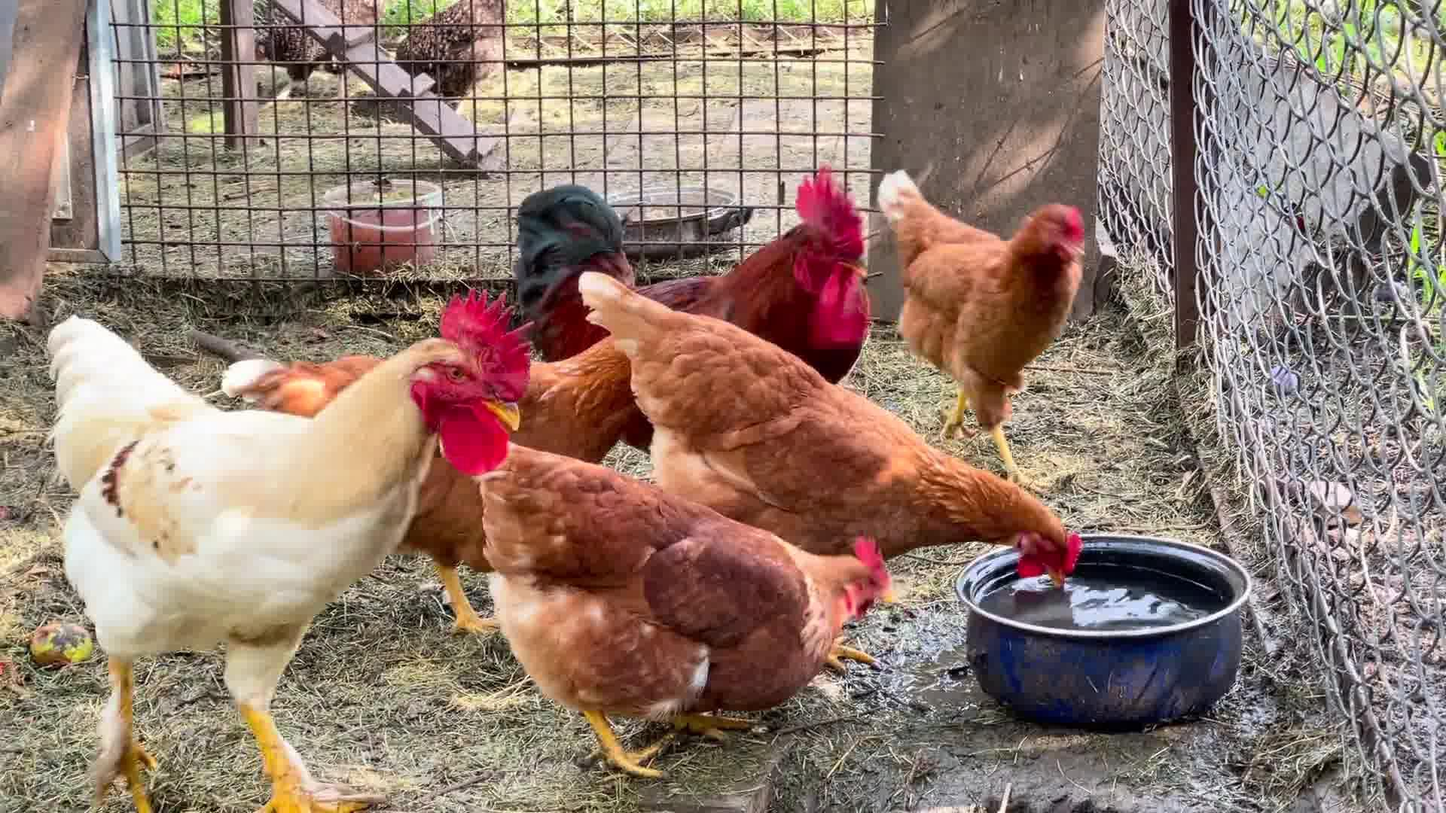Normal: (27, 281, 528, 804), (580, 264, 1119, 652), (469, 450, 884, 795), (221, 335, 677, 645), (511, 170, 923, 444), (870, 168, 1122, 493)
